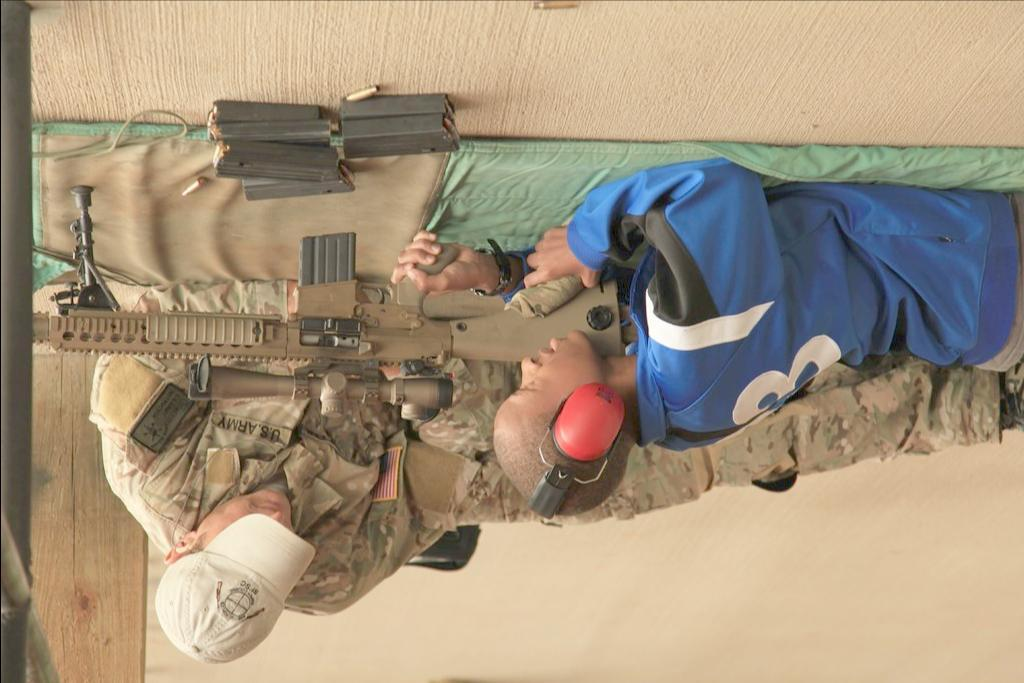gun: (23, 186, 622, 417)
